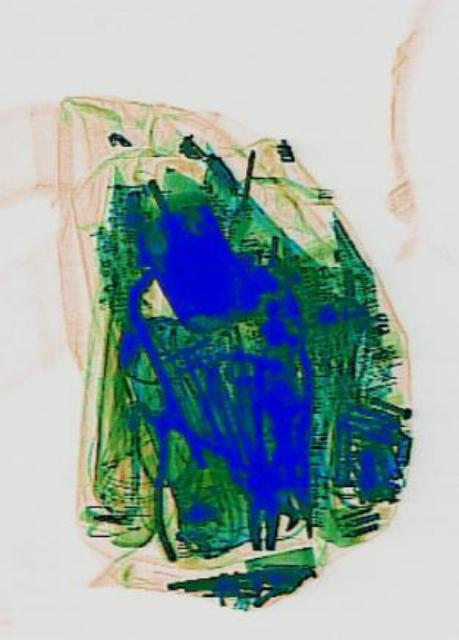Pliers: (108, 362, 257, 572), (230, 400, 291, 550)
